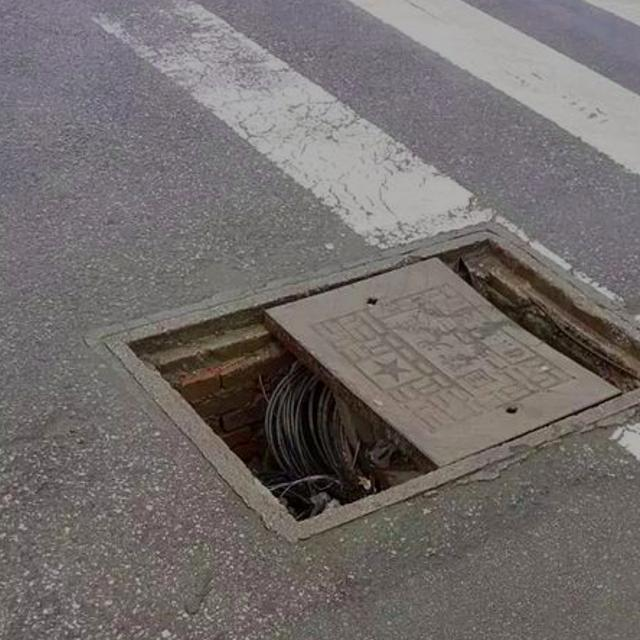lose: (96, 197, 640, 558)
